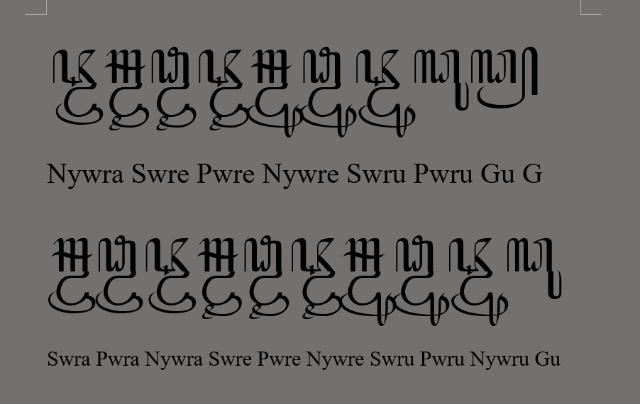-G: (469, 46, 538, 110)
Gu: (414, 49, 470, 111), (506, 238, 562, 300)
Nywr: (52, 48, 104, 126), (146, 238, 197, 314)
Nywre: (290, 238, 342, 320), (198, 49, 248, 131)
Nywru: (448, 238, 509, 326), (356, 49, 416, 137)
Pwr: (95, 236, 143, 314)
Pwre: (151, 46, 197, 132), (244, 235, 290, 320)
Pwru: (300, 46, 358, 138), (392, 235, 450, 327)
Swr: (48, 238, 96, 314)
Swre: (104, 49, 150, 131), (196, 238, 242, 320)
Swru: (246, 50, 304, 138), (339, 238, 396, 326)
